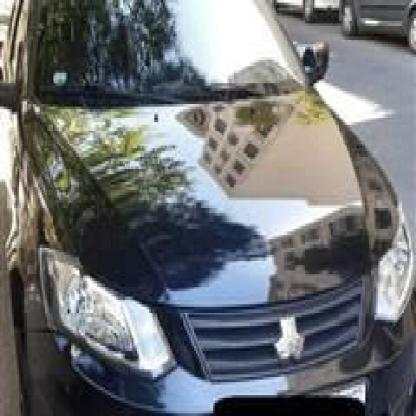Car: (0, 0, 416, 416), (338, 0, 416, 62), (279, 0, 345, 30)
